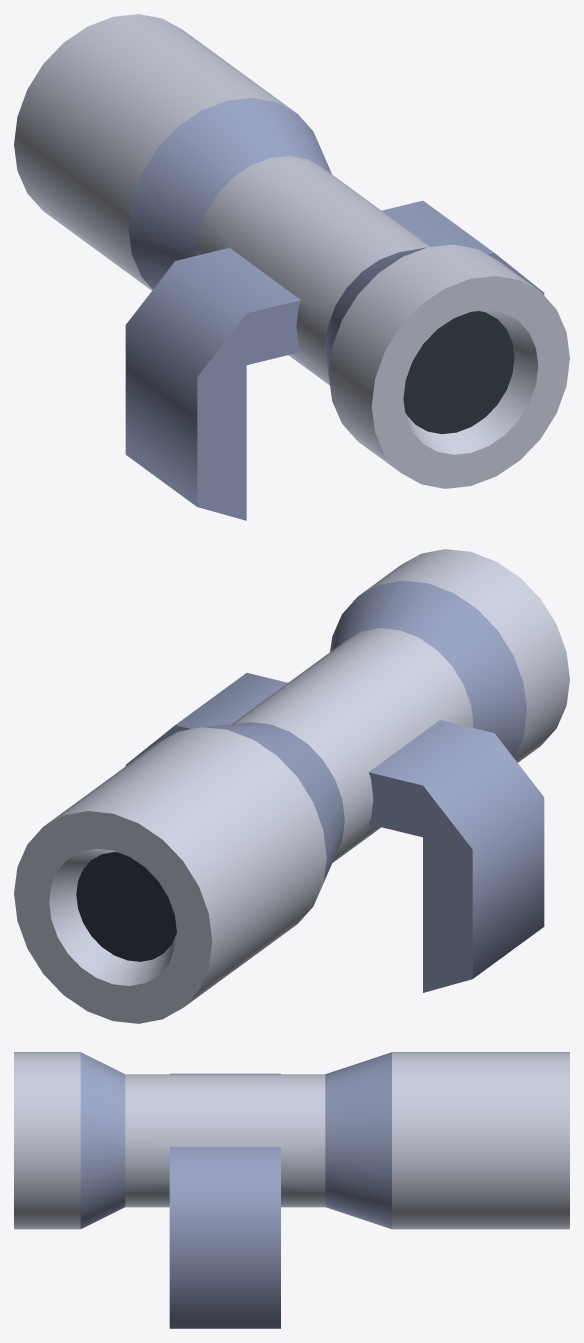
Rendered from scopeA.obj.
The picture shows the model from 3 angles, top to bottom: view 1: azimuth 30°, elevation 25°; view 2: azimuth 150°, elevation 25°; view 3: azimuth 270°, elevation 25°; orthographic projection. The views are drawn at different scales.
Parts seen in each view (by area): view 1: scopeA; view 2: scopeA; view 3: scopeA.
Part boxes in pixels (<box>): scopeA: <box>14,14,569,520</box>; scopeA: <box>14,549,569,1023</box>; scopeA: <box>14,1052,569,1328</box>.
Size of the model in its own units: 0.14 by 0.11 by 0.25.
